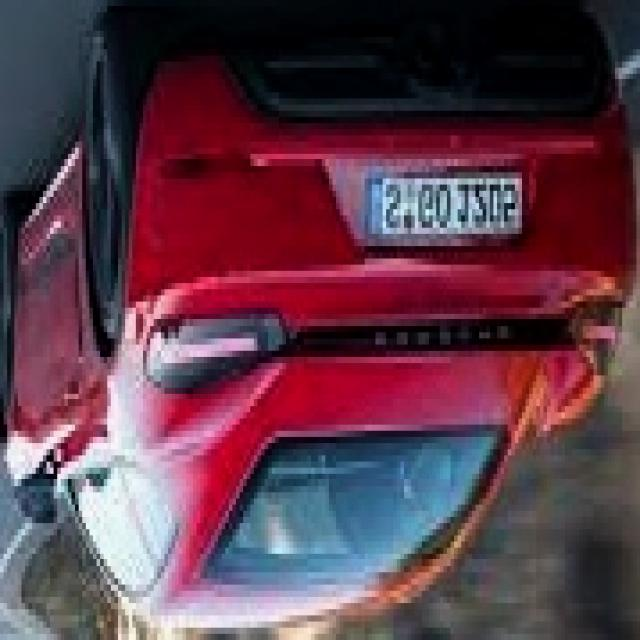red: (1, 49, 640, 617)
